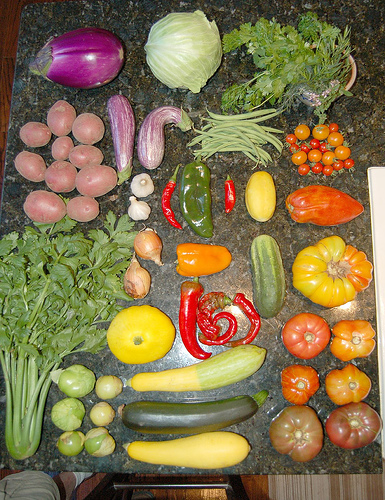cabbage: (145, 10, 223, 93)
